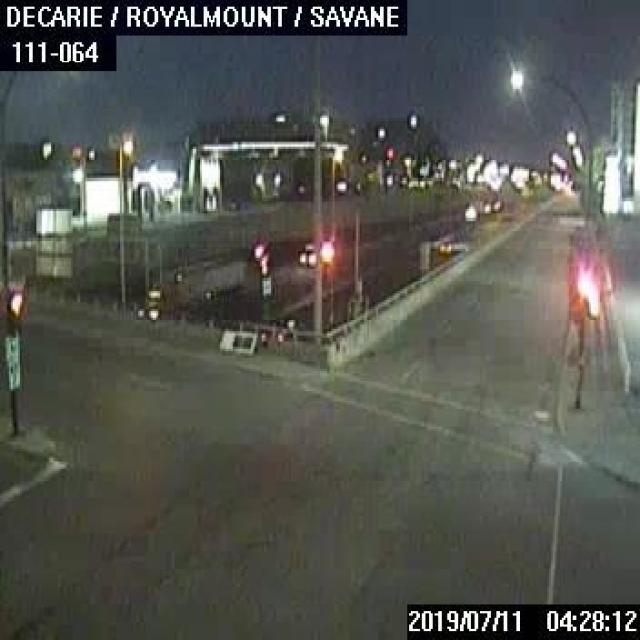vehicle: (140, 256, 247, 316), (298, 240, 314, 264), (265, 314, 302, 324), (438, 239, 455, 251)
